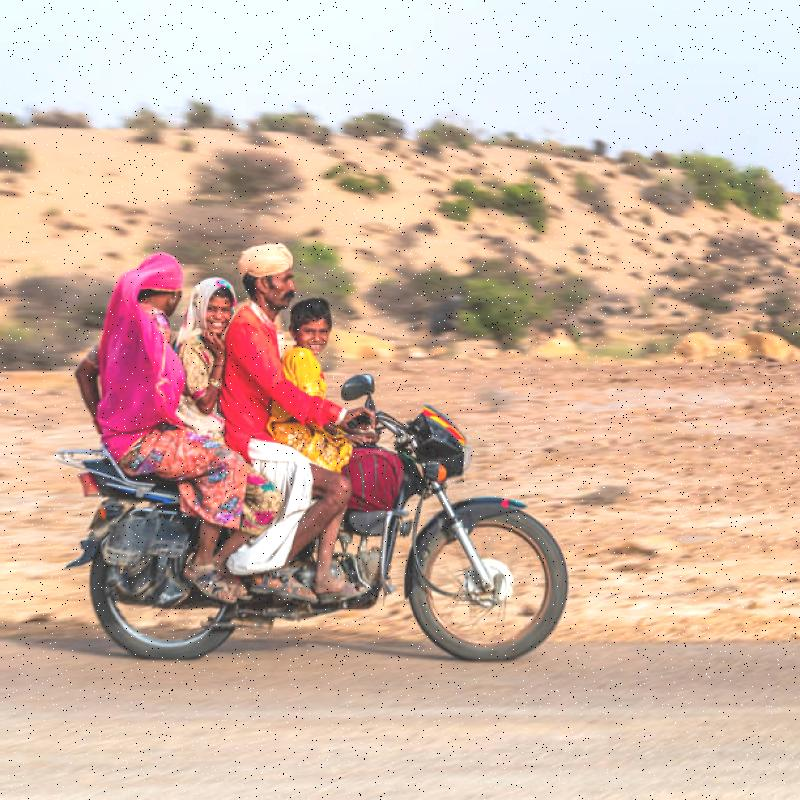bike: (91, 395, 534, 636)
